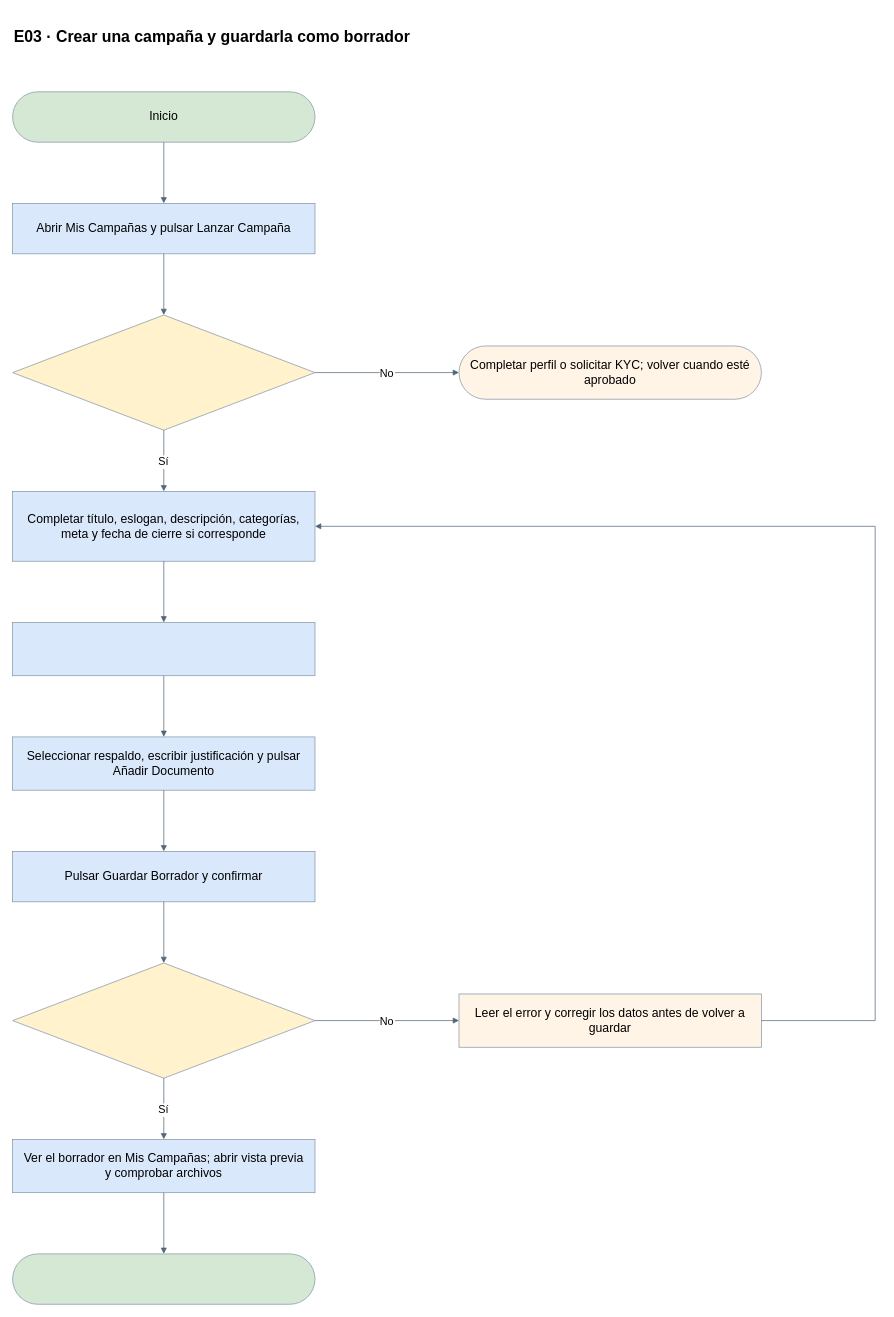
The diagram is 894 pixels wide and 1317 high, and some of its shapes have lost their labels. Here are the shapes that lost their labels. From the top down, the centre of each, then its label:
pixel 163 372: ¿El perfil cumple los requisitos?
pixel 163 649: Agregar portada o video si se desea; definir recompensas si corresponde
pixel 163 1020: ¿Se creó correctamente?
pixel 163 1278: Fin
